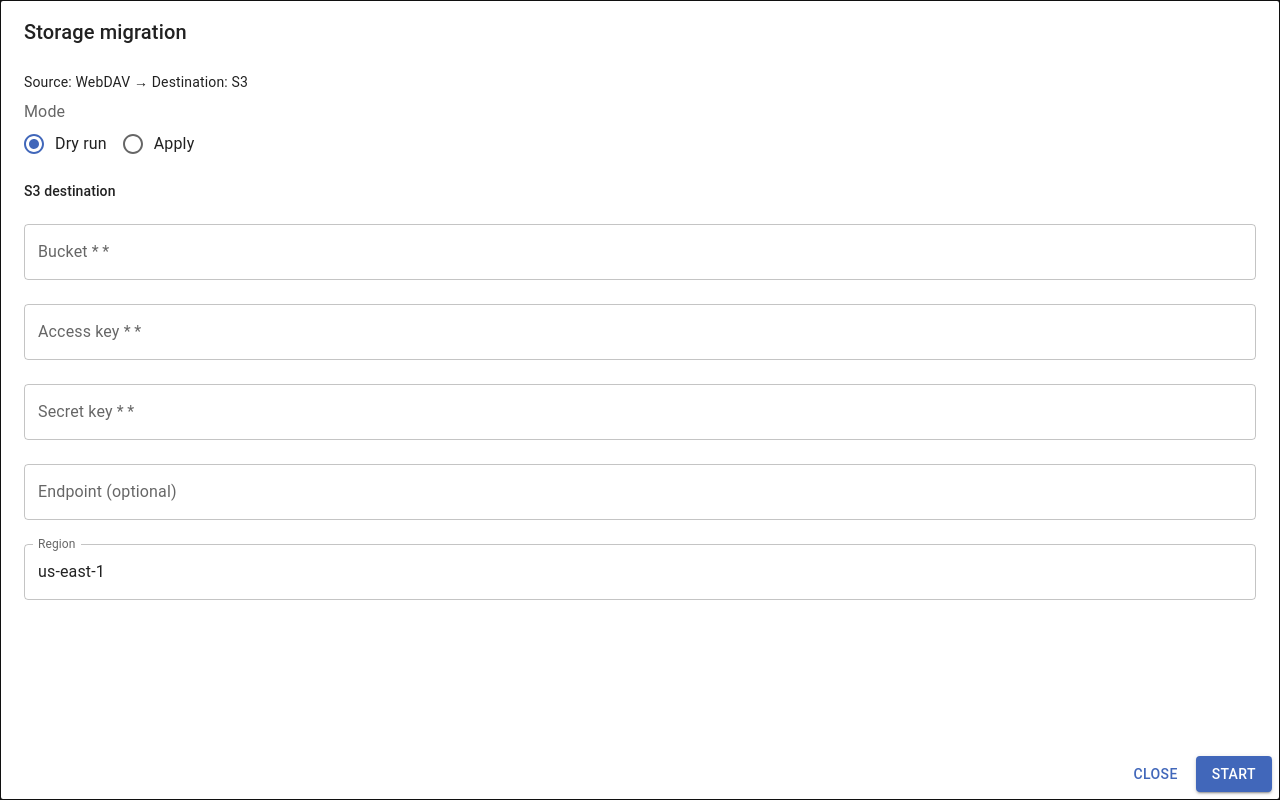
Scenario: MigrationDialog › shows an inline error and stays on the settings page when the migration fails to start
This screenshot has width=1280, height=800.
Expected: the text "Source: WebDAV → Destination: S3" is shown, x1=24 y1=74 x2=248 y2=90
Type "bucket-1" into the field labelled "Bucket * *" at (640, 252), box x1=24 y1=224 x2=1256 y2=280
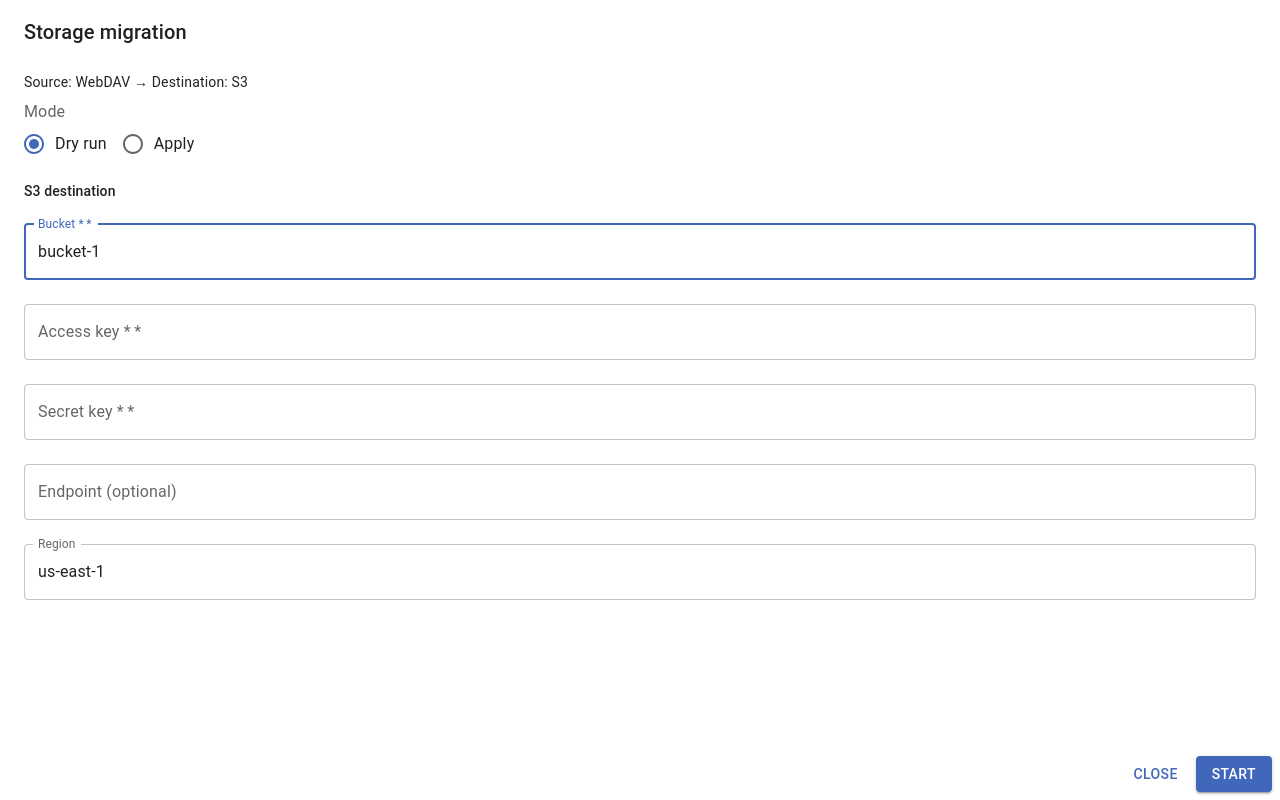
Type "AKIA123" into the field labelled "Access key * *" at (640, 332), box x1=24 y1=304 x2=1256 y2=360
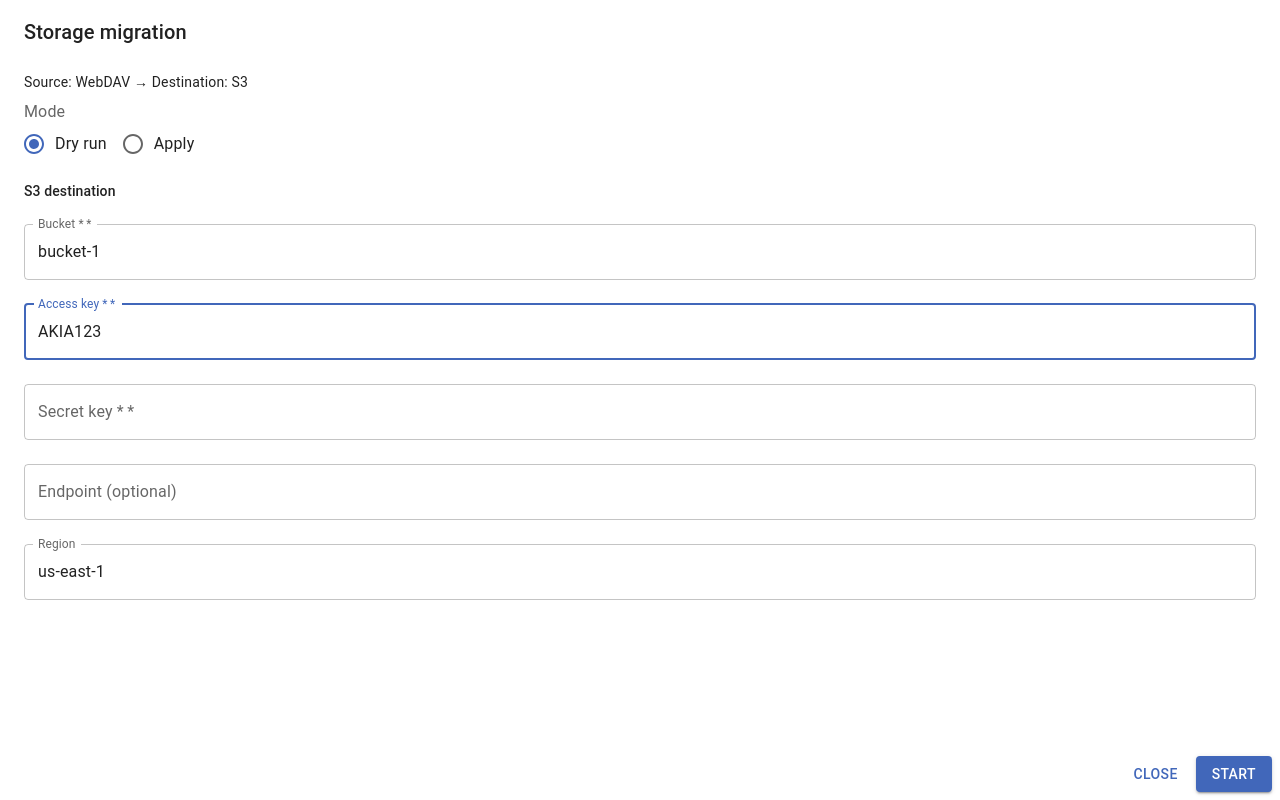
Type "secret123" into the password field labelled "Secret key * *" at (640, 412), box x1=24 y1=384 x2=1256 y2=440
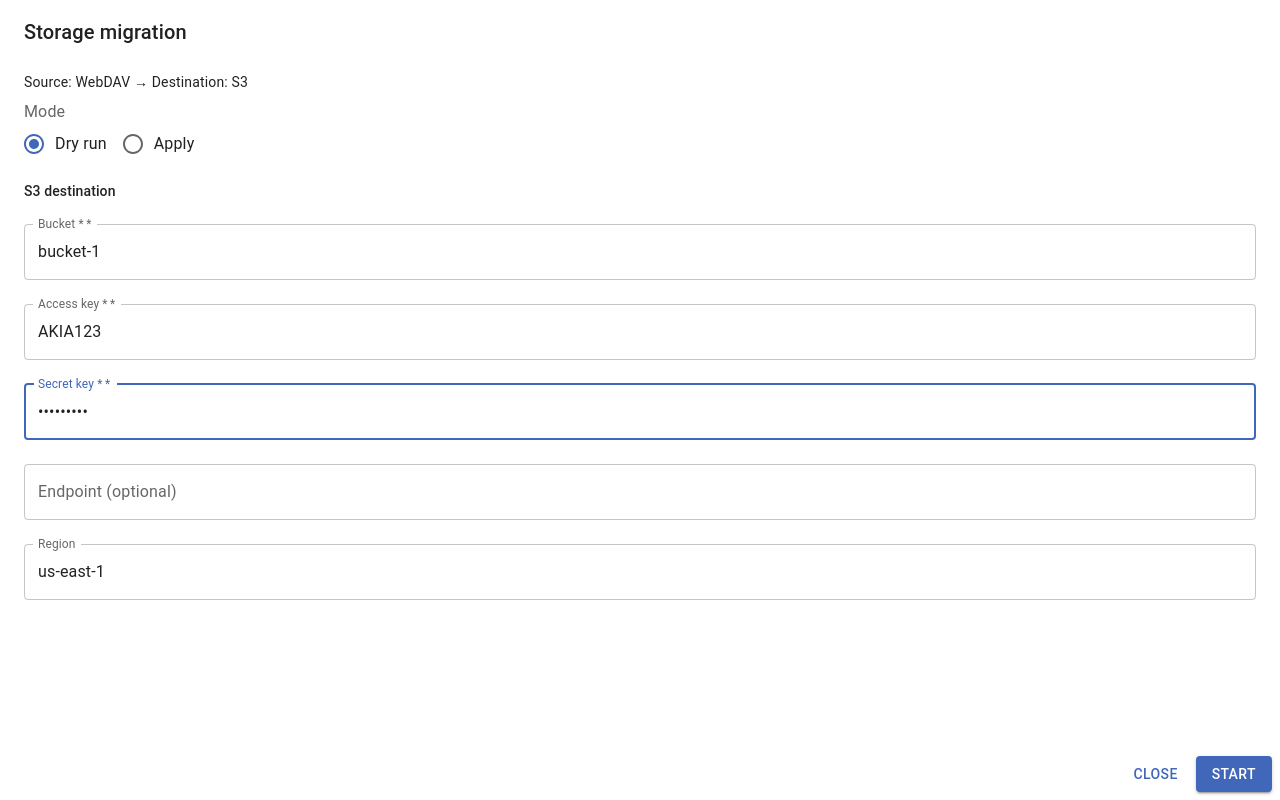
Click the button "Start" at (1234, 774), box x1=1196 y1=756 x2=1272 y2=792
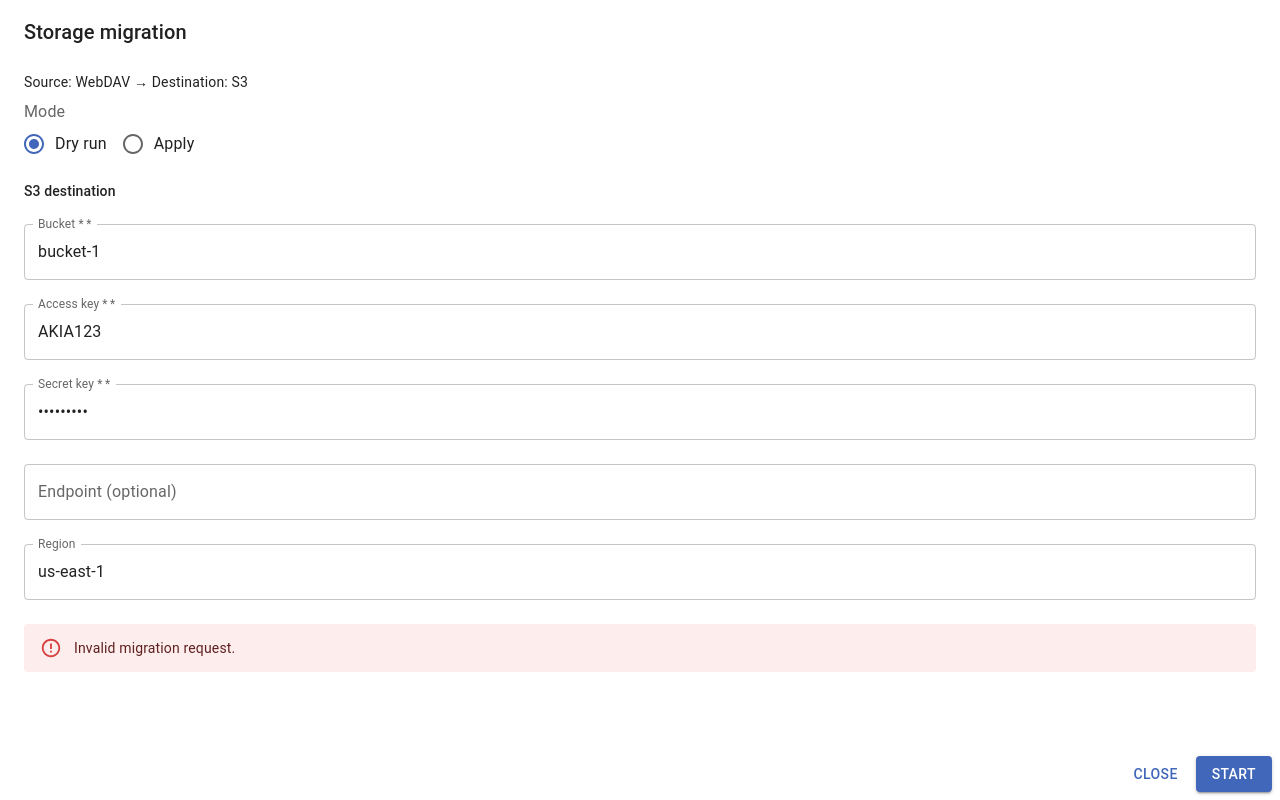
Now the text "Invalid migration request." is shown, box x1=74 y1=640 x2=235 y2=656
